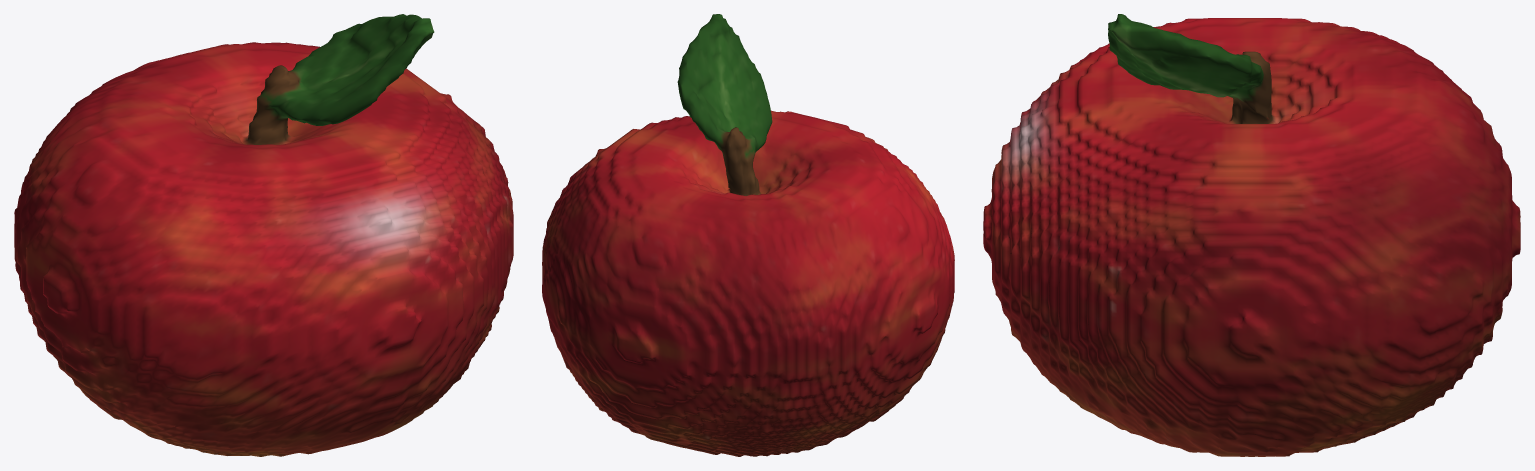
The model's file is apple.glb.
3 renders of one model, left to right at view 1: azimuth 30°, elevation 25°; view 2: azimuth 150°, elevation 25°; view 3: azimuth 270°, elevation 25°, orthographic. The views are drawn at different scales.
Visible parts, largest first — view 1: apple; view 2: apple; view 3: apple.
Boxes of the visible parts, x1,y1,x2,y2 form: apple: (14, 14, 513, 456); apple: (542, 14, 954, 456); apple: (983, 14, 1520, 456).
Bounding box in the file's own units: 0.1 × 0.0896 × 0.1.
